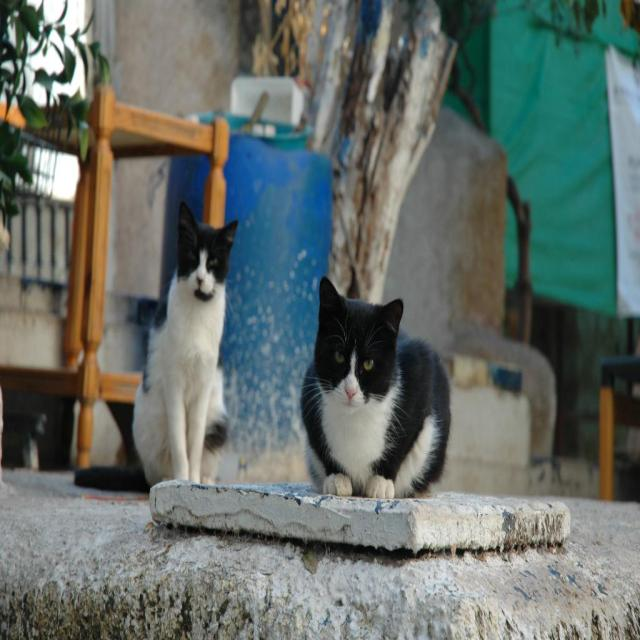Cat: (291, 272, 454, 498), (127, 202, 241, 486)
